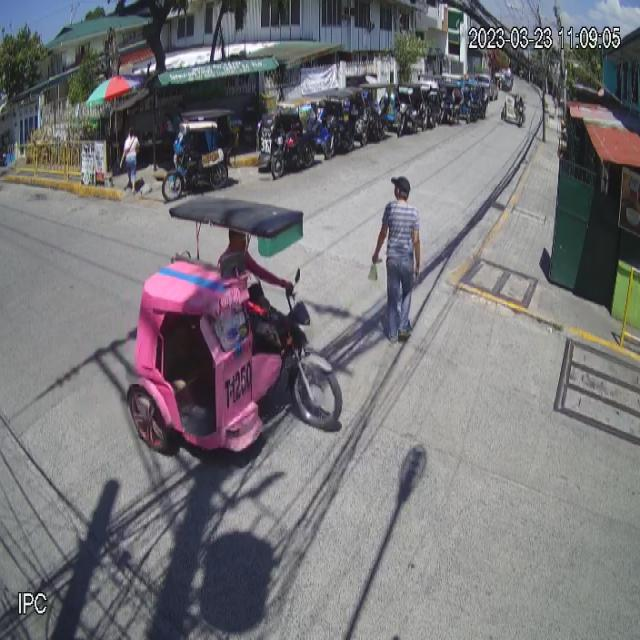Tricycle: (126, 195, 343, 455)
